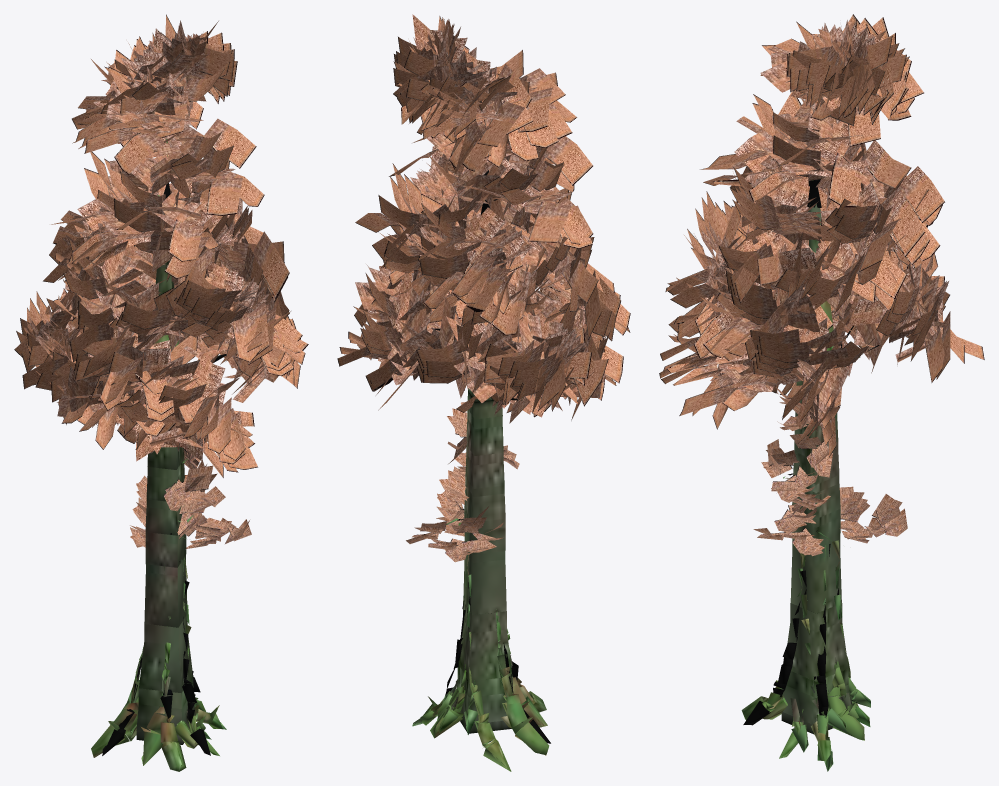
The model's file is tree_2.glb.
The picture shows the model from 3 angles, left to right: view 1: azimuth 30°, elevation 25°; view 2: azimuth 150°, elevation 25°; view 3: azimuth 270°, elevation 25°; orthographic projection. The views are drawn at different scales.
Visible parts, largest first — view 1: Bottom_T; view 2: Bottom_T; view 3: Bottom_T.
Part boxes in pixels (box(x1,y1,x2,y2)): Bottom_T: box(14, 14, 308, 771); Bottom_T: box(337, 14, 630, 771); Bottom_T: box(659, 14, 984, 771).
Size of the model in its own units: 18.3 by 46.9 by 18.7.
1 material, 1 textured.
